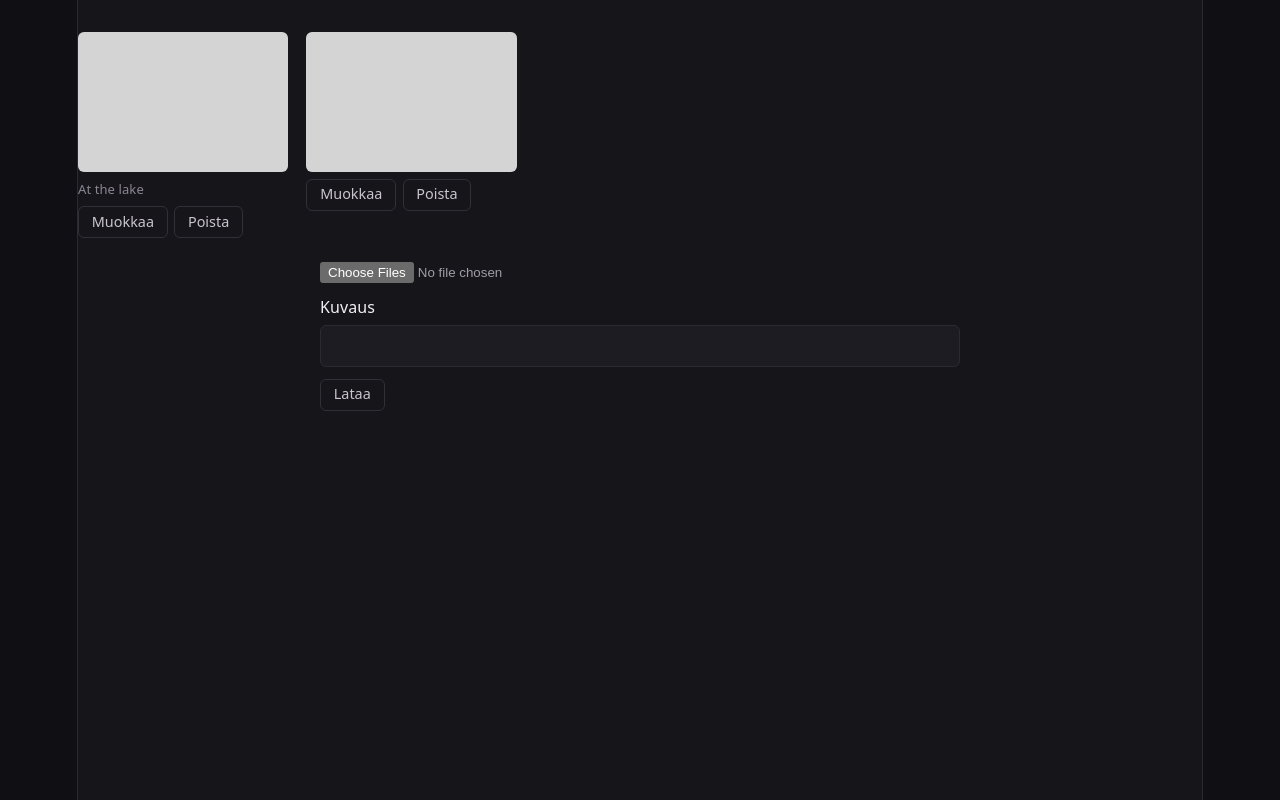
Test case: AdminPhotoGrid › shows the notFound alert when delete rejects with 404
Click the button "Poista" below "At the lake": coordinates (209, 222) [174,206,243,238]
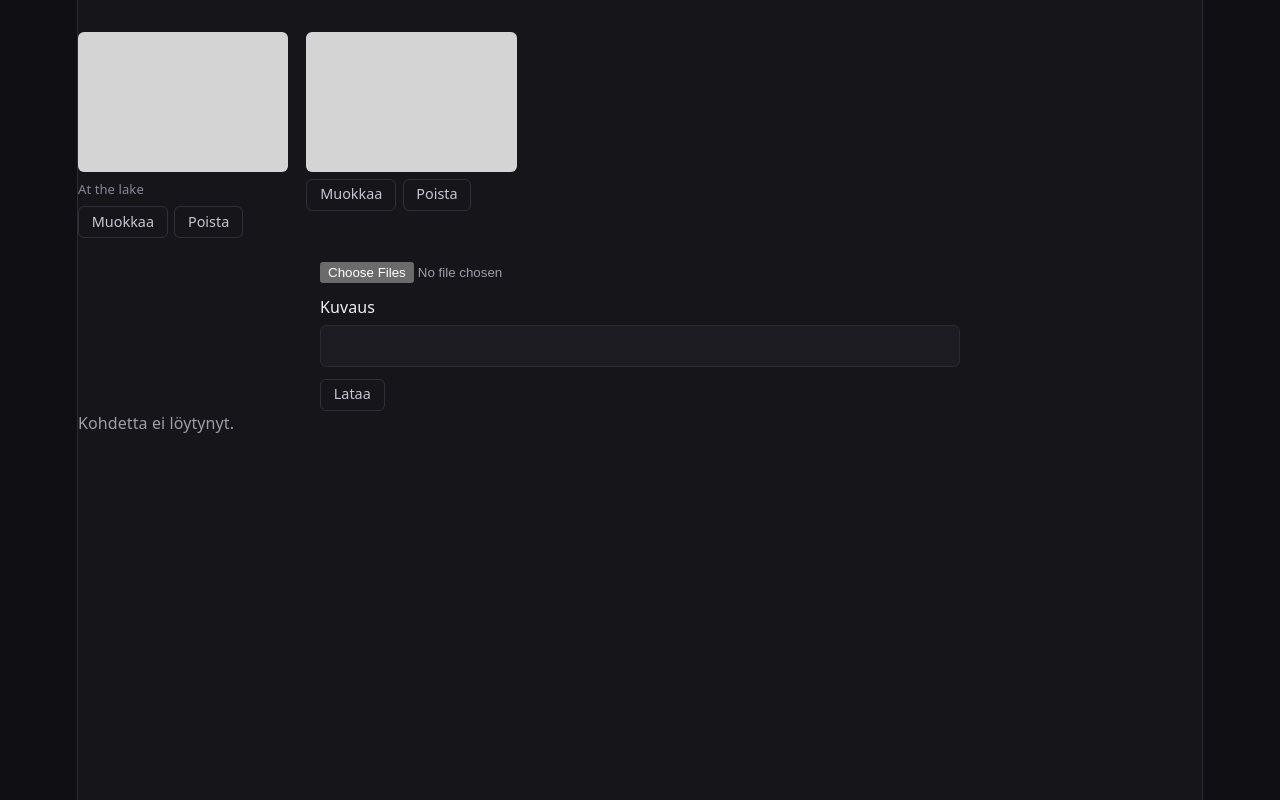
Now the message reads "Kohdetta ei löytynyt.", box [78,412,234,434]
